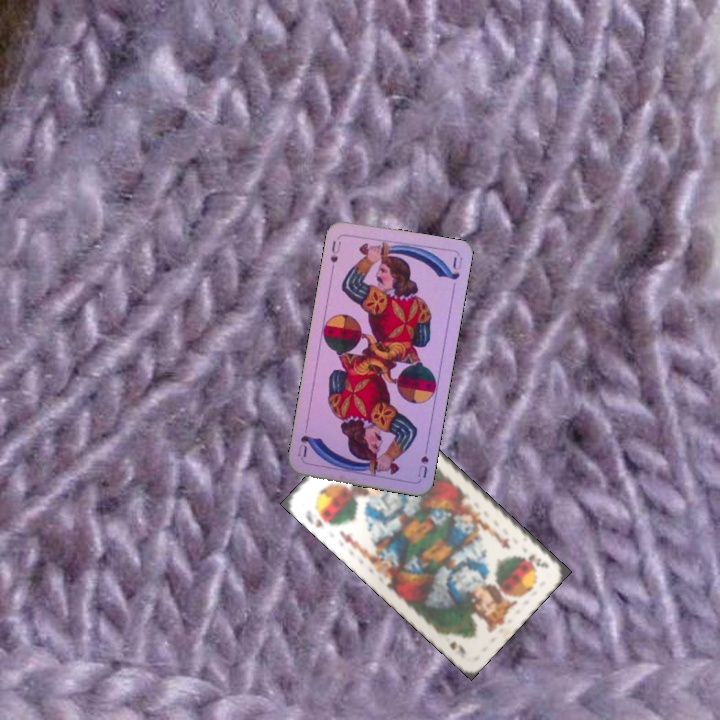SK: (301, 505, 326, 530), (524, 550, 551, 571)
SU: (326, 234, 344, 274), (414, 440, 431, 480)
